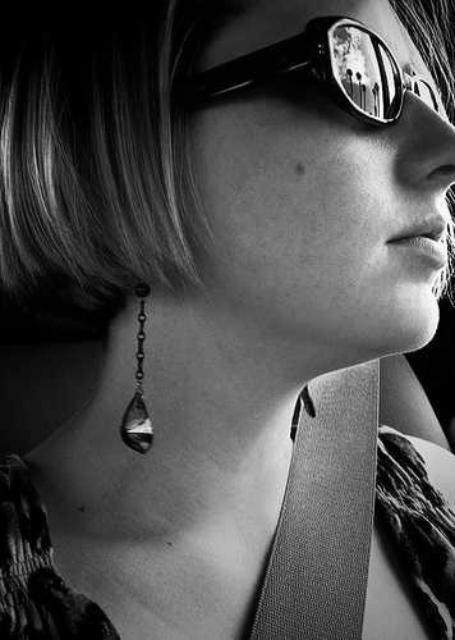Seatbelt: (242, 350, 386, 640)
